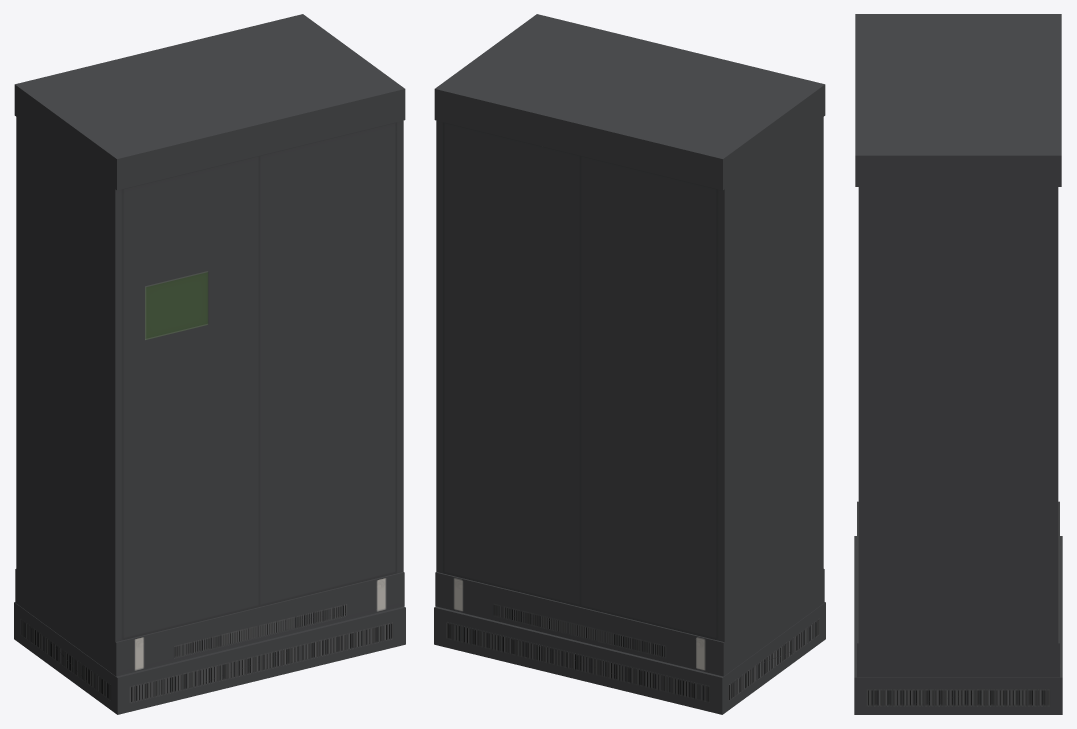
The model's file is sts.glb.
3 views of the same model, side by side, from view 1: azimuth 30°, elevation 25°; view 2: azimuth 150°, elevation 25°; view 3: azimuth 270°, elevation 25° (orthographic).
Parts seen in each view (by area): view 1: Cube.002; view 2: Cube.002; view 3: Cube.002.
Part boxes in pixels (x1,y1,x2,y2): Cube.002: (14, 14, 405, 714); Cube.002: (434, 14, 825, 714); Cube.002: (854, 14, 1062, 714).
Bounding box in the file's own units: 2 × 3.68 × 1.24.
Materials: 1 (1 with a texture image).
